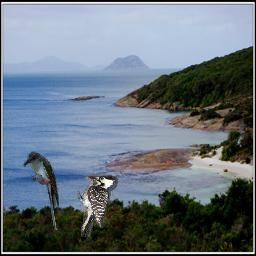Cuckoo: (23, 152, 59, 231)
Woodpecker: (75, 175, 120, 238)
